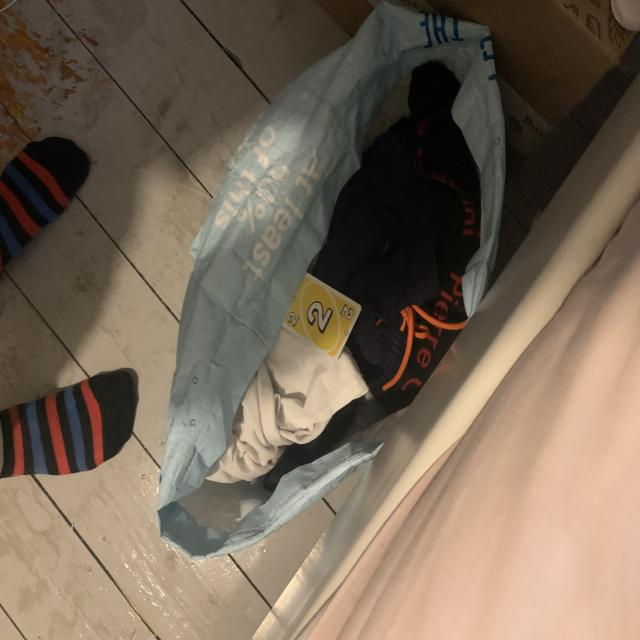lyellow-2: (285, 306, 301, 331)
